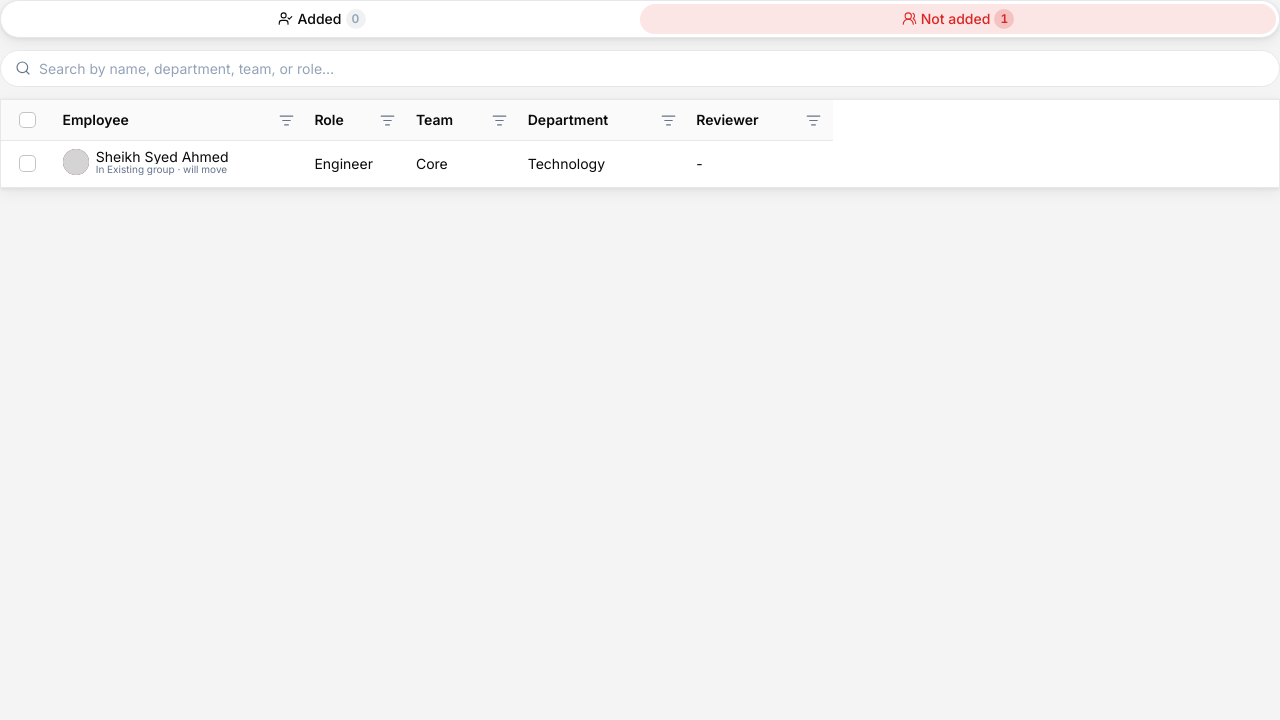
Test: GroupMembersEditor › warns in the confirmation when a person will move from another group
Click the checkbox named "select sheikh syed ahmed" at (28, 164), box left=19, top=155, right=36, bottom=172
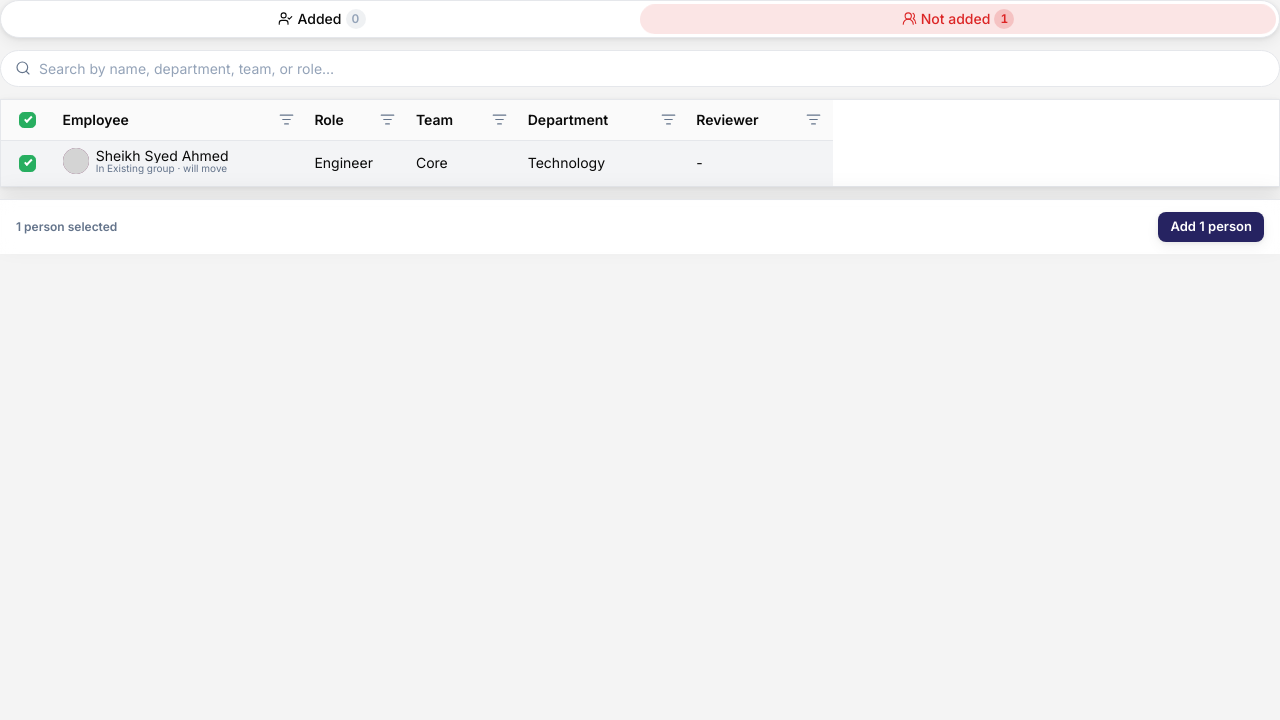
Click the button "Add 1 person" at (1211, 227), box left=1158, top=212, right=1264, bottom=242
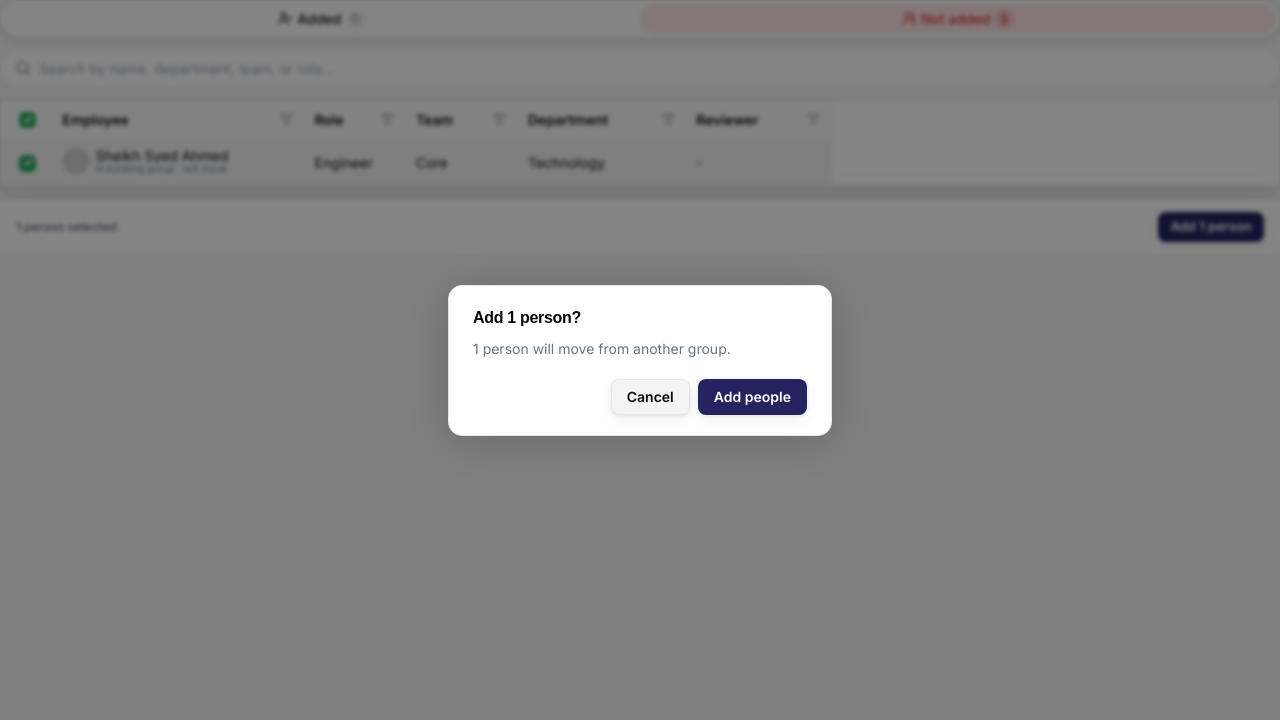
Expected: the text "1 person will move from another group." is shown, left=473, top=340, right=731, bottom=356
